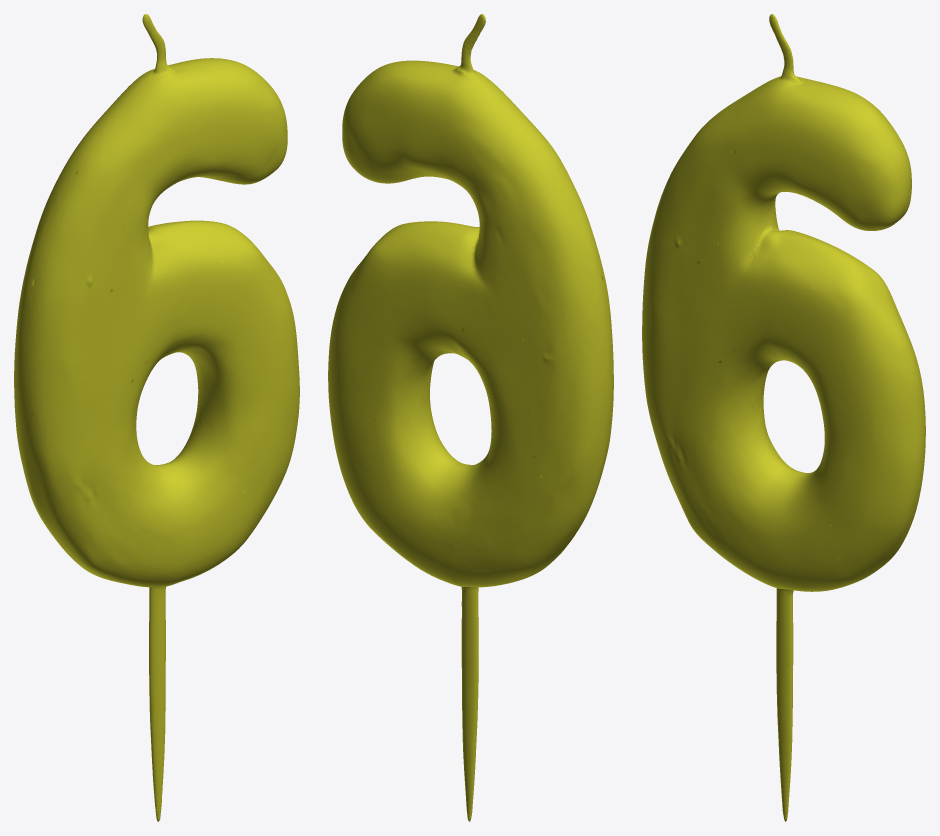
The model's file is number6.glb.
The picture shows the model from 3 angles, left to right: view 1: azimuth 30°, elevation 25°; view 2: azimuth 150°, elevation 25°; view 3: azimuth 330°, elevation 25°; orthographic projection.
Parts seen in each view (by area): view 1: Mesh1.001; view 2: Mesh1.001; view 3: Mesh1.001.
Boxes of the visible parts, x1,y1,x2,y2 form: Mesh1.001: [14, 14, 299, 821]; Mesh1.001: [328, 14, 613, 821]; Mesh1.001: [642, 14, 925, 821].
Size of the model in its own units: 0.3357 by 0.9397 by 0.0872.
